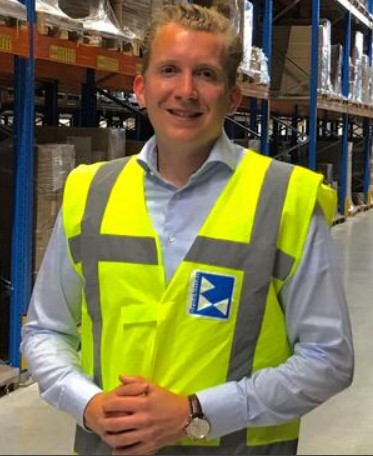worker: (63, 16, 316, 456)
